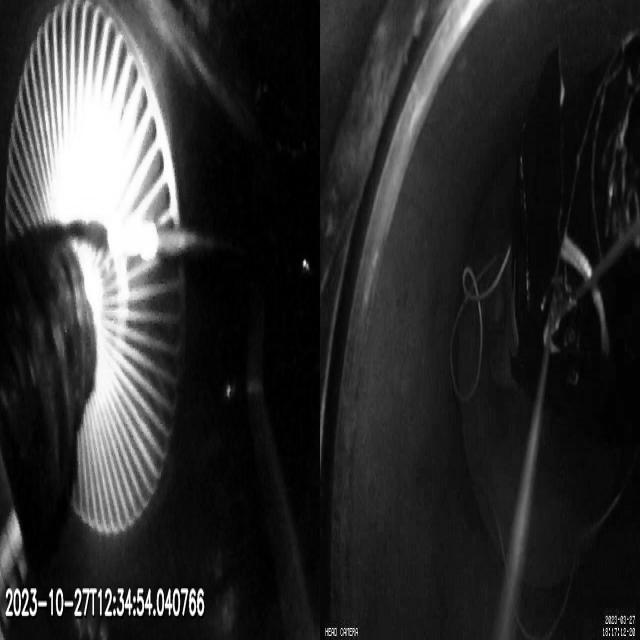white-dots: (107, 216, 159, 263)
